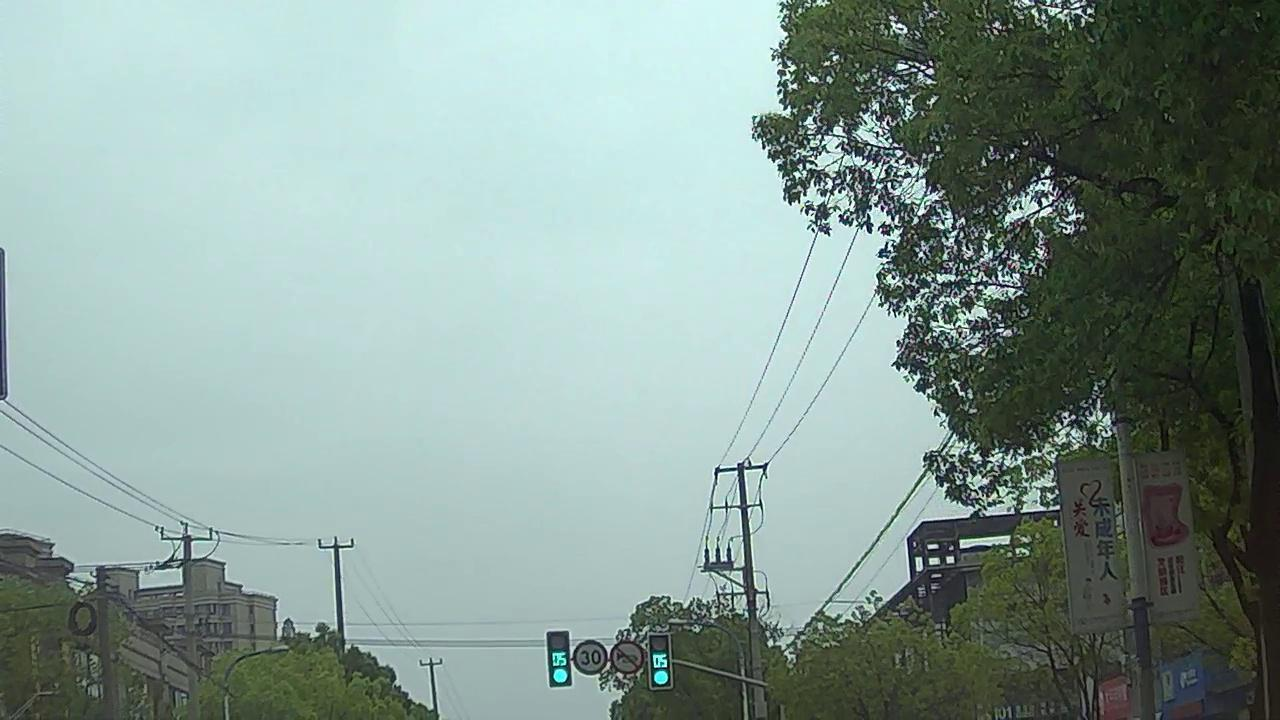traffic_light: (548, 630, 570, 686), (651, 631, 672, 684)
